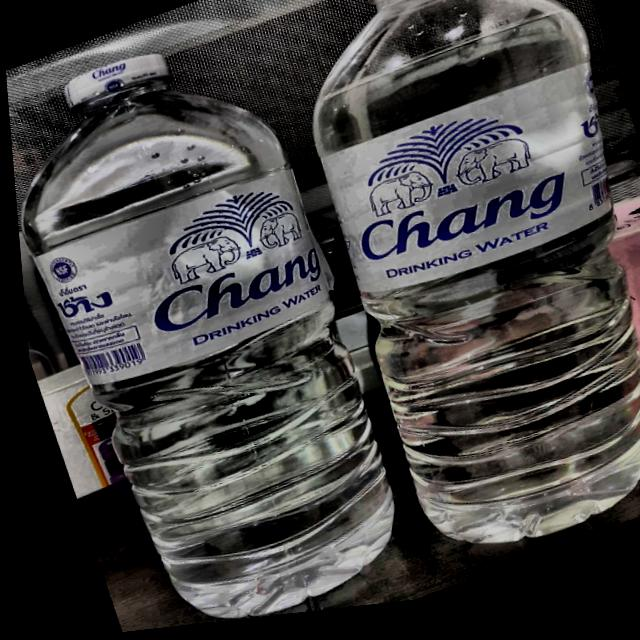Bottles: (2, 0, 424, 640), (242, 0, 640, 603)
